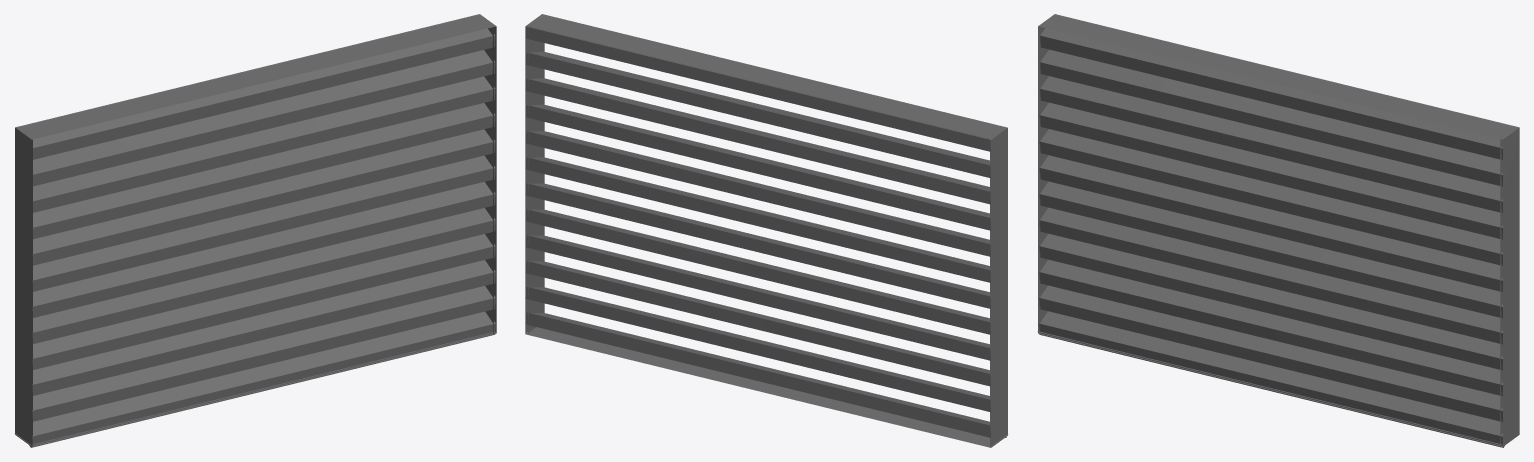
The picture shows the model from 3 angles, left to right: view 1: azimuth 30°, elevation 25°; view 2: azimuth 150°, elevation 25°; view 3: azimuth 330°, elevation 25°; orthographic projection.
Parts seen in each view (by area): view 1: HeaterGrates.001; view 2: HeaterGrates.001; view 3: HeaterGrates.001.
Part boxes in pixels (x1,y1,x2,y2): HeaterGrates.001: (14,14,496,447); HeaterGrates.001: (525,14,1008,447); HeaterGrates.001: (1037,14,1519,447).
Size of what is drawn, in the model's own units: 0.3991 by 0.2533 by 0.0251.
Materials: 1 (1 with a texture image).
